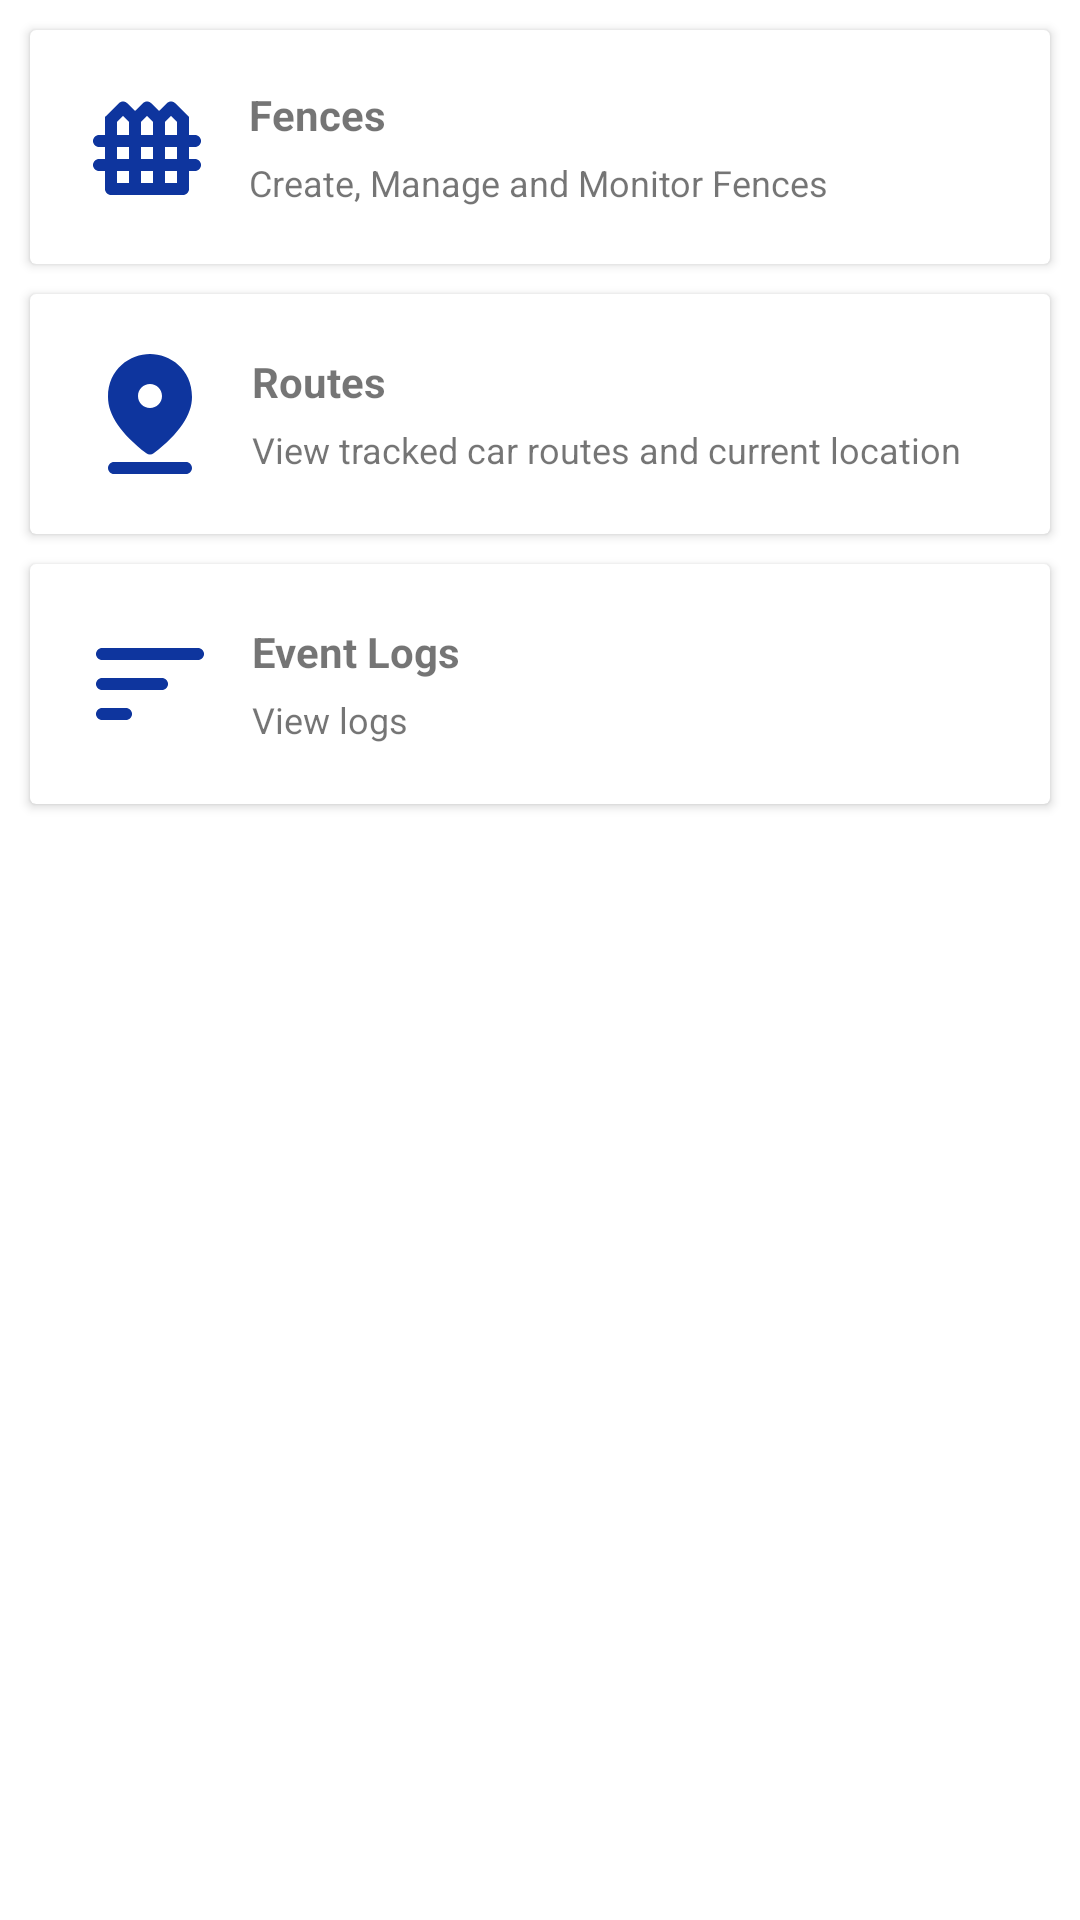

Icons on this 1080px x 1920px Android screen, each with its box as (x1, y1, x2, y2):
events log: (96, 648, 204, 720)
tracking: (108, 354, 192, 474)
